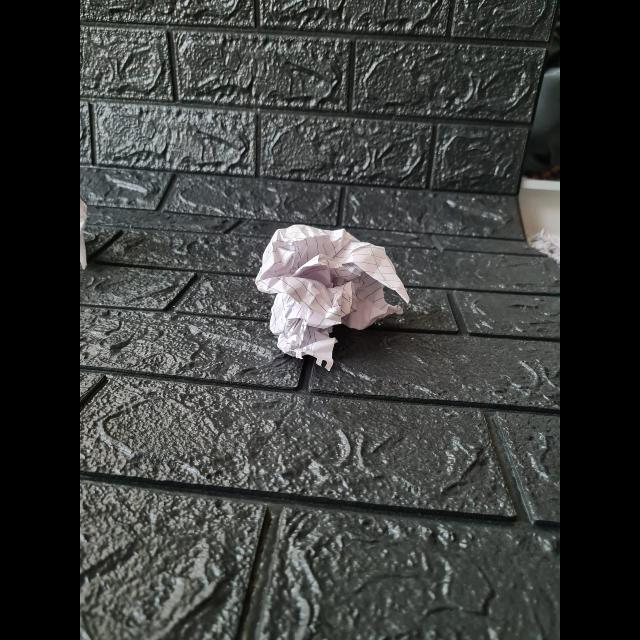scrap_paper: (262, 218, 410, 362)
